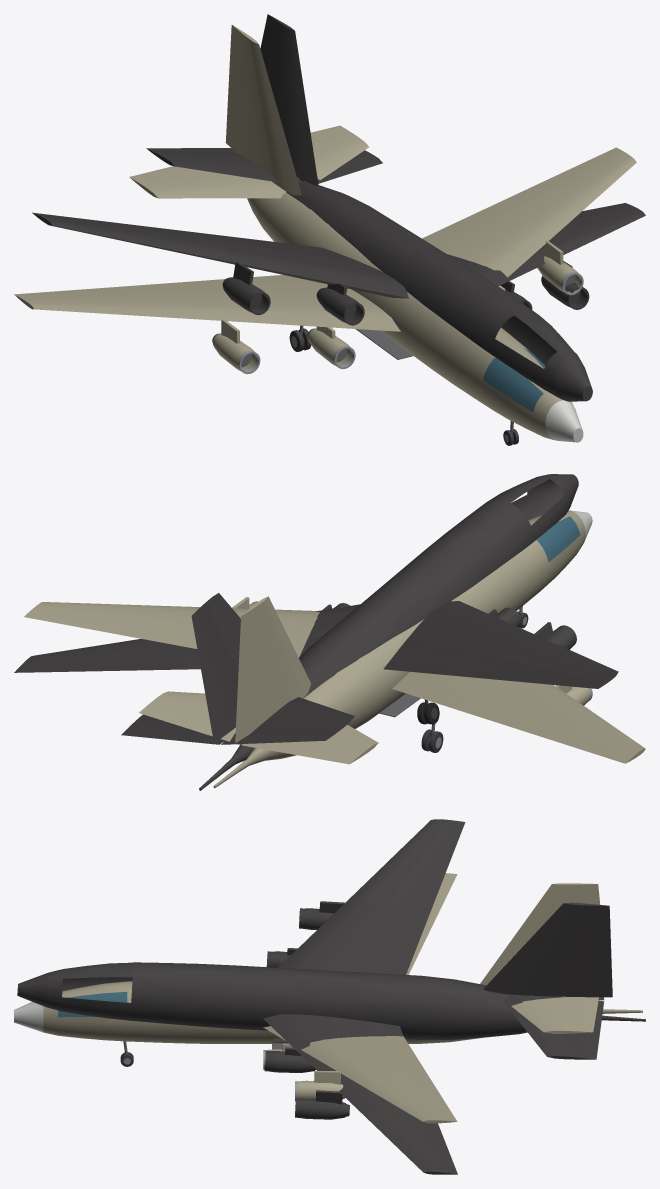
The model's file is maritimePatrol__kawasaki_p_1.glb.
3 views of the same model, one above another, from view 1: azimuth 30°, elevation 25°; view 2: azimuth 150°, elevation 25°; view 3: azimuth 270°, elevation 25° (orthographic). The views are drawn at different scales.
Visible parts, largest first — view 1: Fuselage_Mesh, Wreck; view 2: Wreck, Fuselage_Mesh; view 3: Wreck, Fuselage_Mesh.
Boxes of the visible parts, x1,y1,x2,y2 form: Fuselage_Mesh: (14, 25, 636, 445); Wreck: (32, 14, 645, 401); Wreck: (14, 474, 618, 790); Fuselage_Mesh: (24, 510, 645, 788); Wreck: (17, 819, 645, 1174); Fuselage_Mesh: (14, 873, 642, 1123).
Size of what is drawn, in the model's own units: 35.97 by 12.1 by 38.18.
